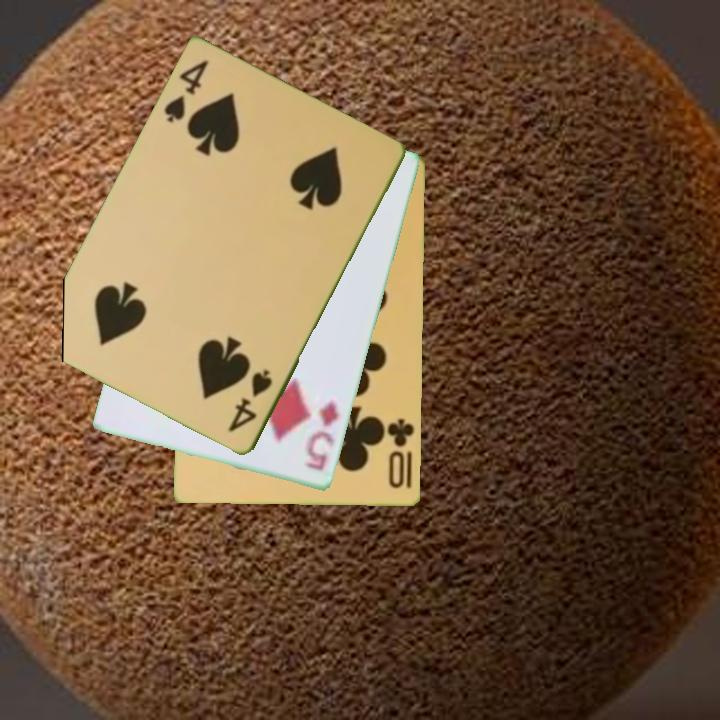10c: (384, 415, 418, 492)
4s: (160, 57, 212, 127), (225, 366, 276, 436)
5d: (301, 397, 342, 475)
